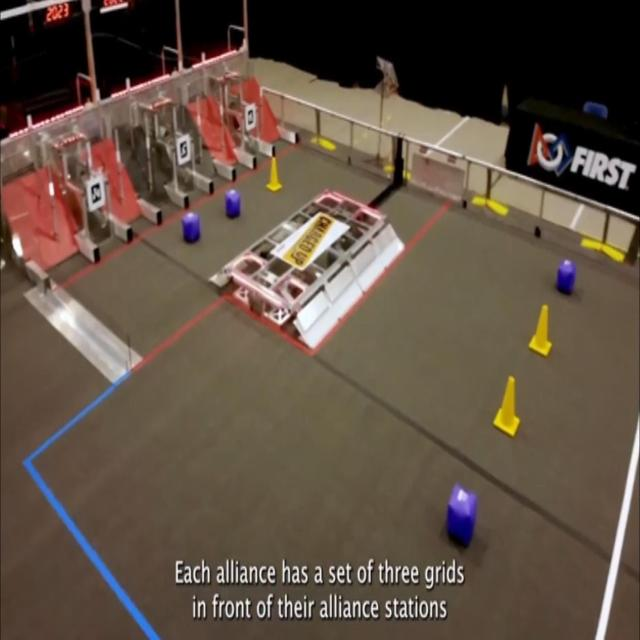frc_cone: (493, 376, 520, 438), (528, 304, 552, 358), (266, 156, 281, 192)
frc_cube: (446, 485, 477, 547), (554, 258, 576, 296), (181, 211, 200, 246), (224, 189, 242, 218)
